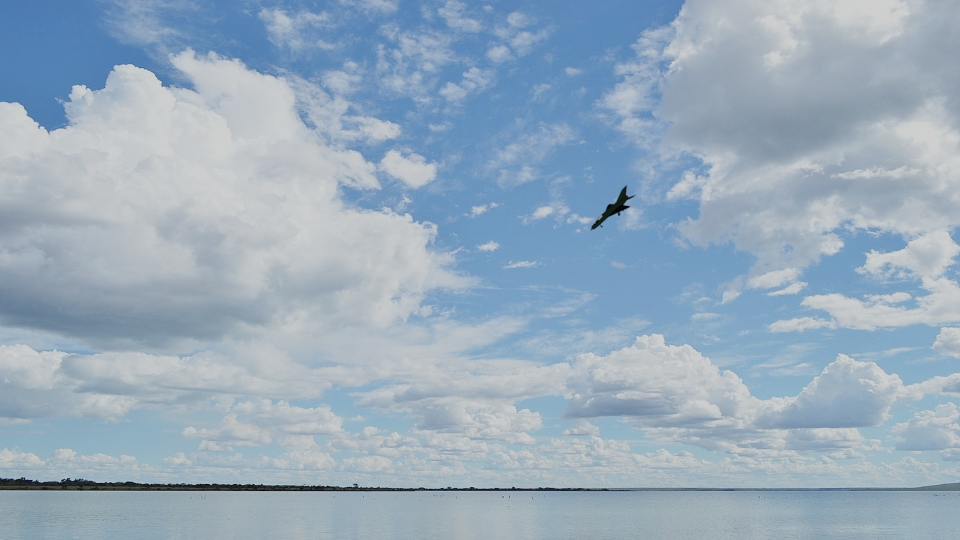plane: (590, 187, 634, 231)
